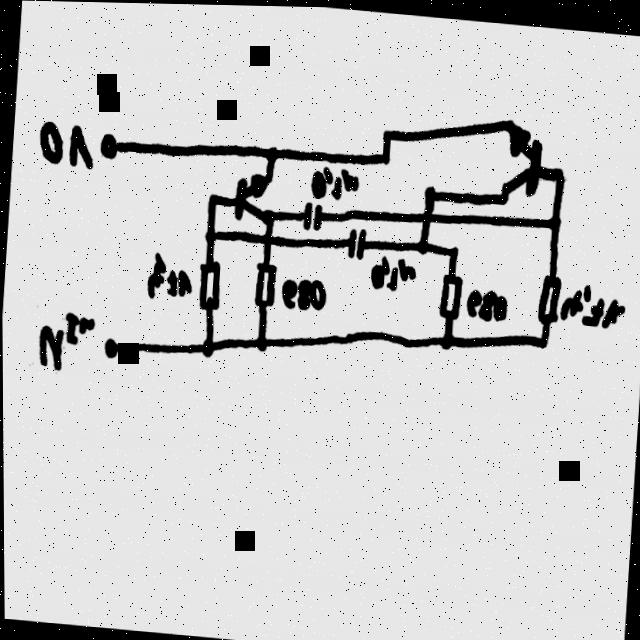capacitor: (345, 224, 367, 260), (300, 199, 325, 230)
crossover: (420, 209, 434, 222), (261, 232, 274, 245)
junction: (200, 336, 215, 358), (438, 330, 454, 349), (547, 212, 562, 230), (422, 182, 437, 199), (254, 333, 267, 352), (264, 144, 279, 160), (415, 237, 429, 254), (203, 227, 217, 243), (261, 208, 275, 223), (378, 150, 391, 166), (446, 243, 459, 258), (381, 126, 393, 141), (554, 164, 565, 180), (206, 191, 218, 205), (536, 335, 548, 348), (496, 192, 508, 202)
resistor: (196, 259, 222, 312), (536, 272, 561, 323), (437, 270, 463, 319), (253, 260, 277, 308)
terminal: (98, 132, 120, 160), (102, 336, 120, 359)
text: (36, 310, 95, 373), (559, 279, 627, 327), (37, 120, 95, 169), (145, 250, 194, 302), (309, 162, 360, 202), (368, 252, 417, 293), (278, 273, 328, 312), (463, 284, 509, 321)
transistor: (501, 114, 545, 197), (233, 167, 276, 223)
